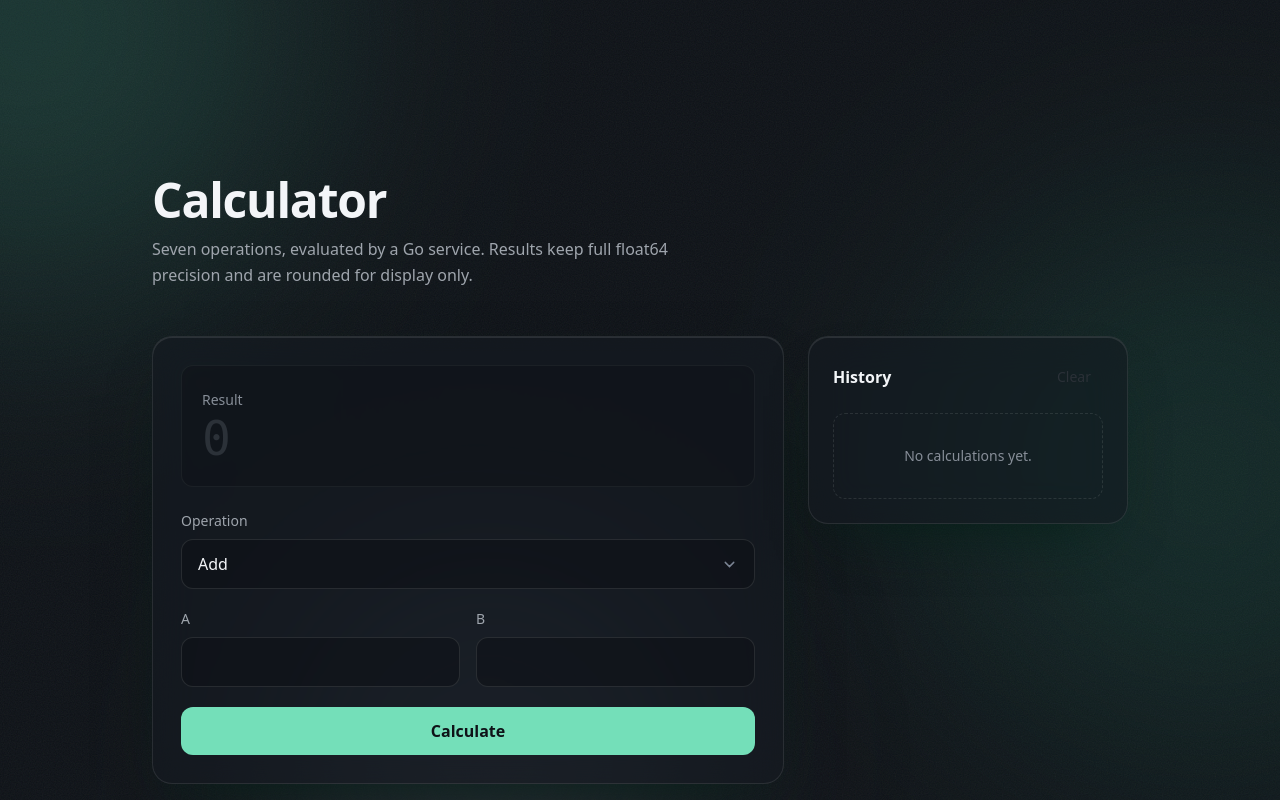
Scenario: App › adds calculations to history, newest first
Type "1" into the field labelled "A" at (320, 662), box [181,637,460,687]
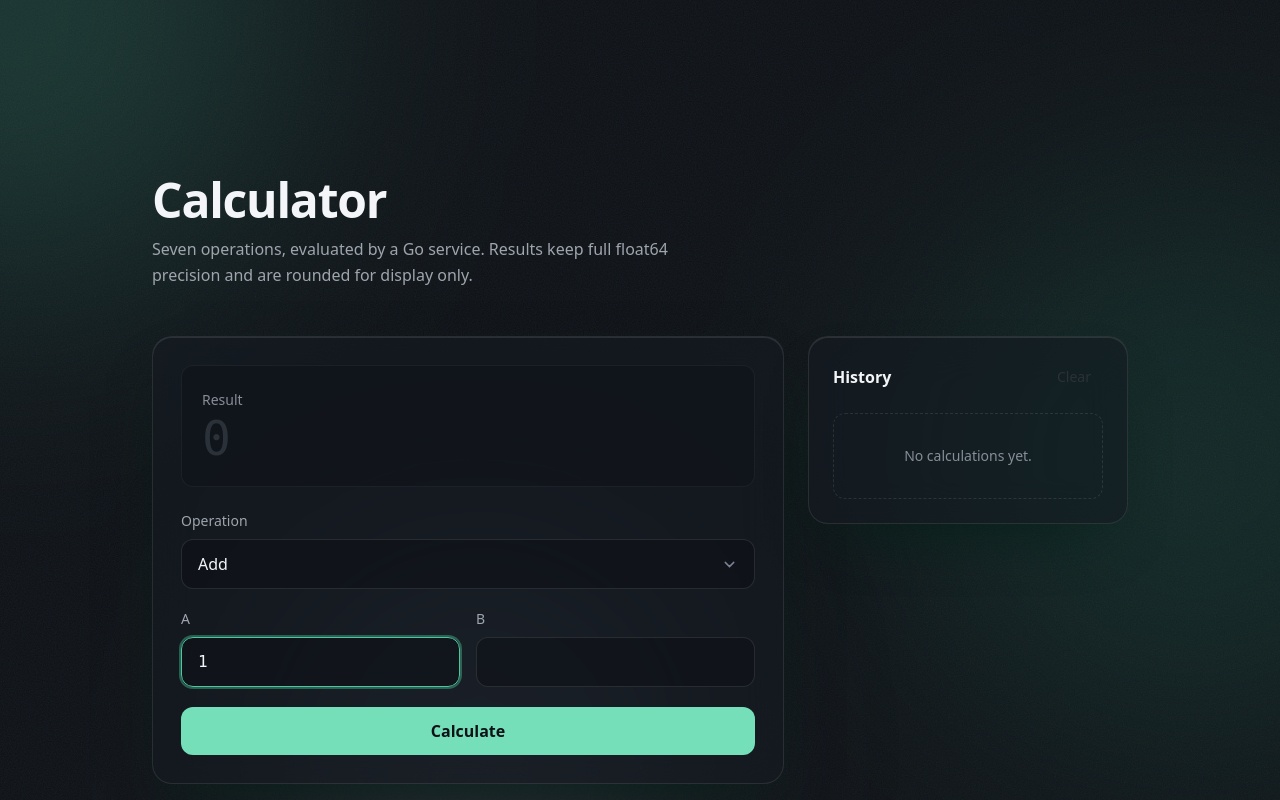
Type "2" into the field labelled "B" at (616, 662), box [476,637,755,687]
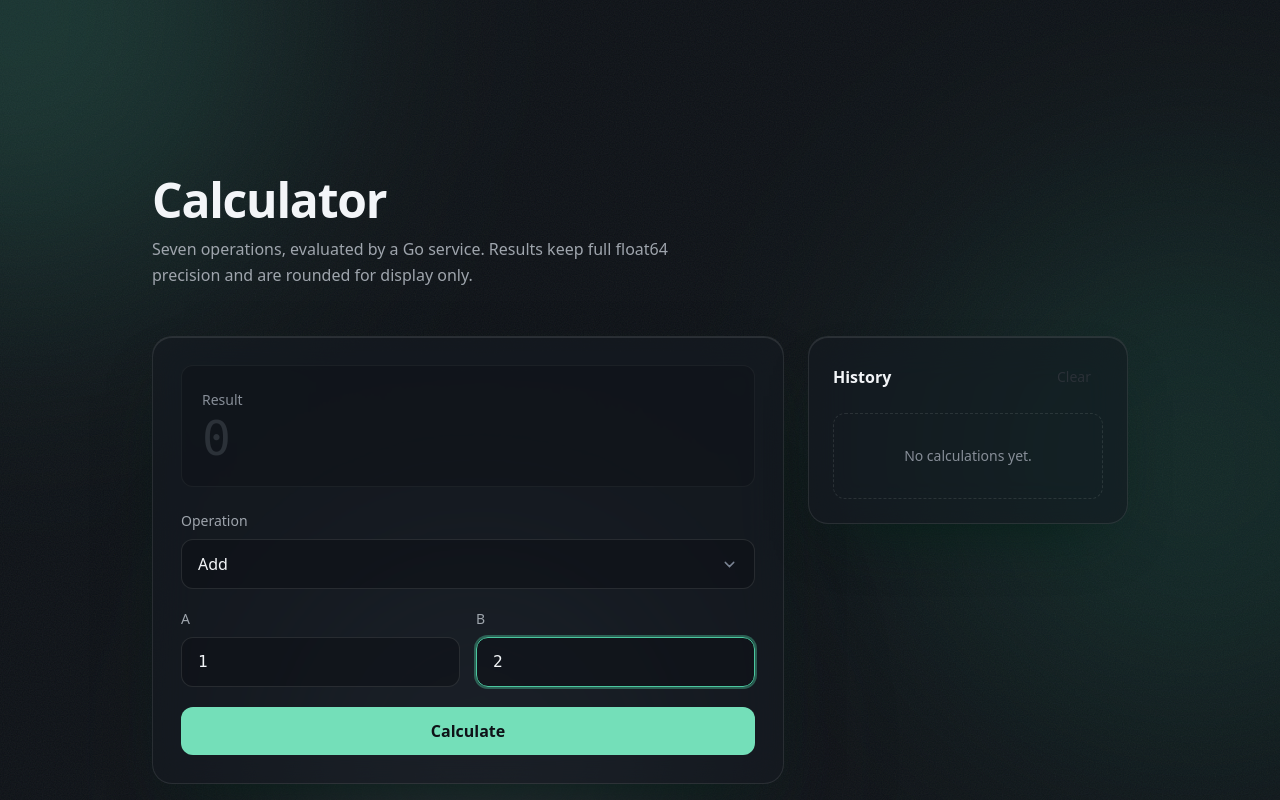
Click the button "Calculate" at (468, 731), box [181,707,755,755]
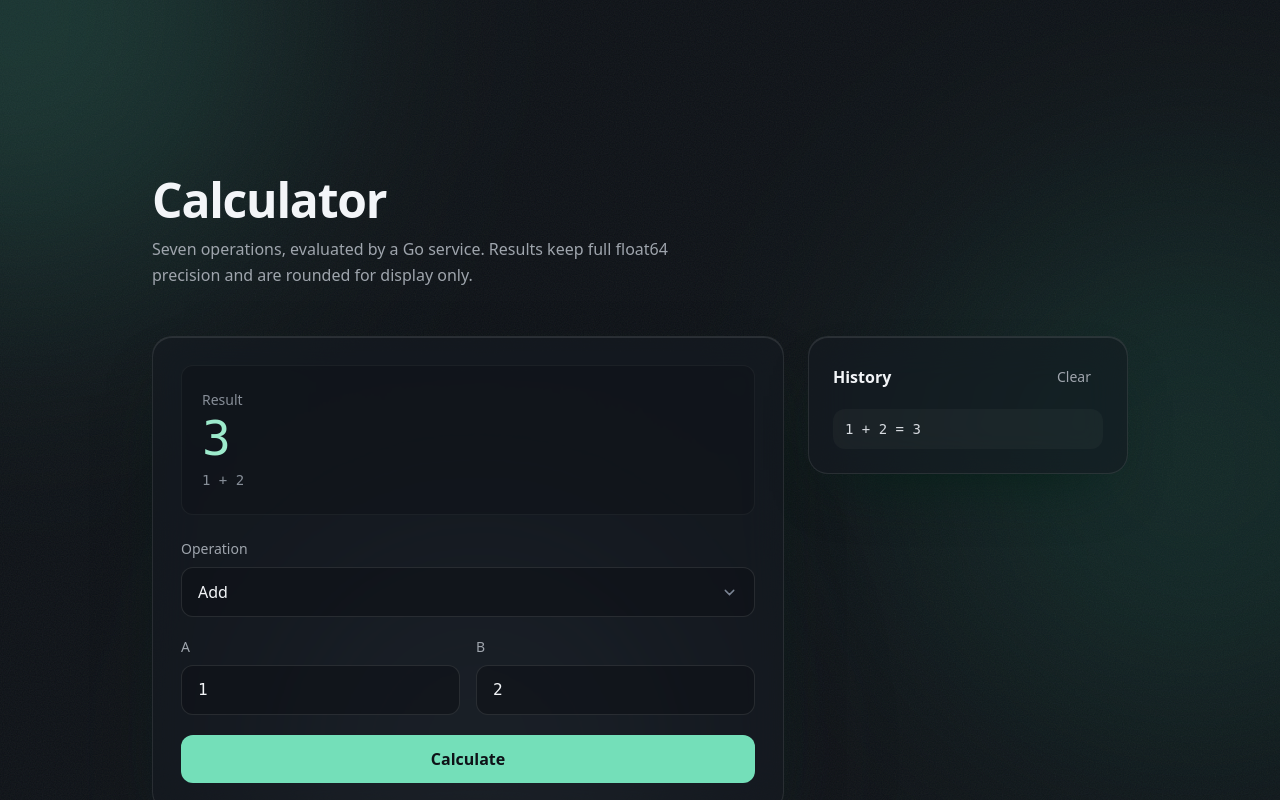
Expected: the text "3" is shown, [202,410,231,466]
Replace the text in the field labelled "A" with "4" at (320, 690), box [181,665,460,715]
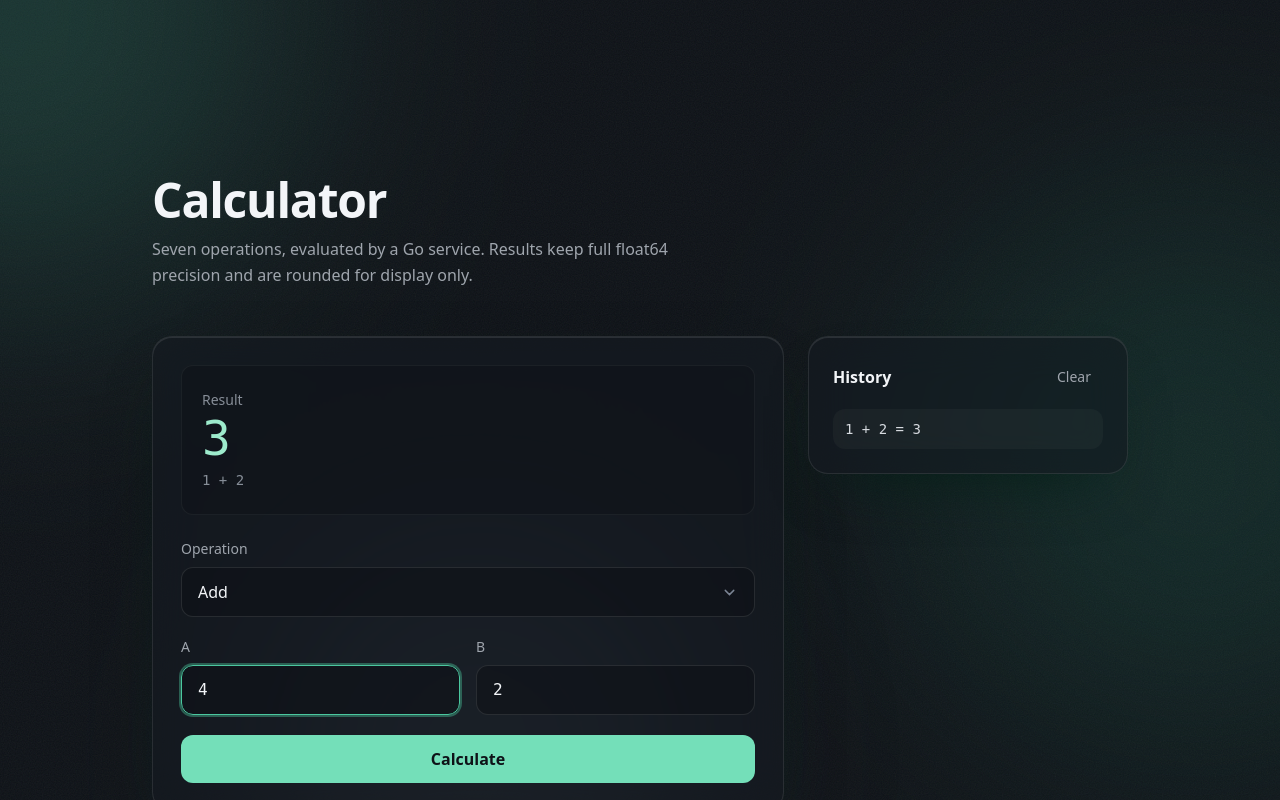
Replace the text in the field labelled "B" with "5" at (616, 690), box [476,665,755,715]
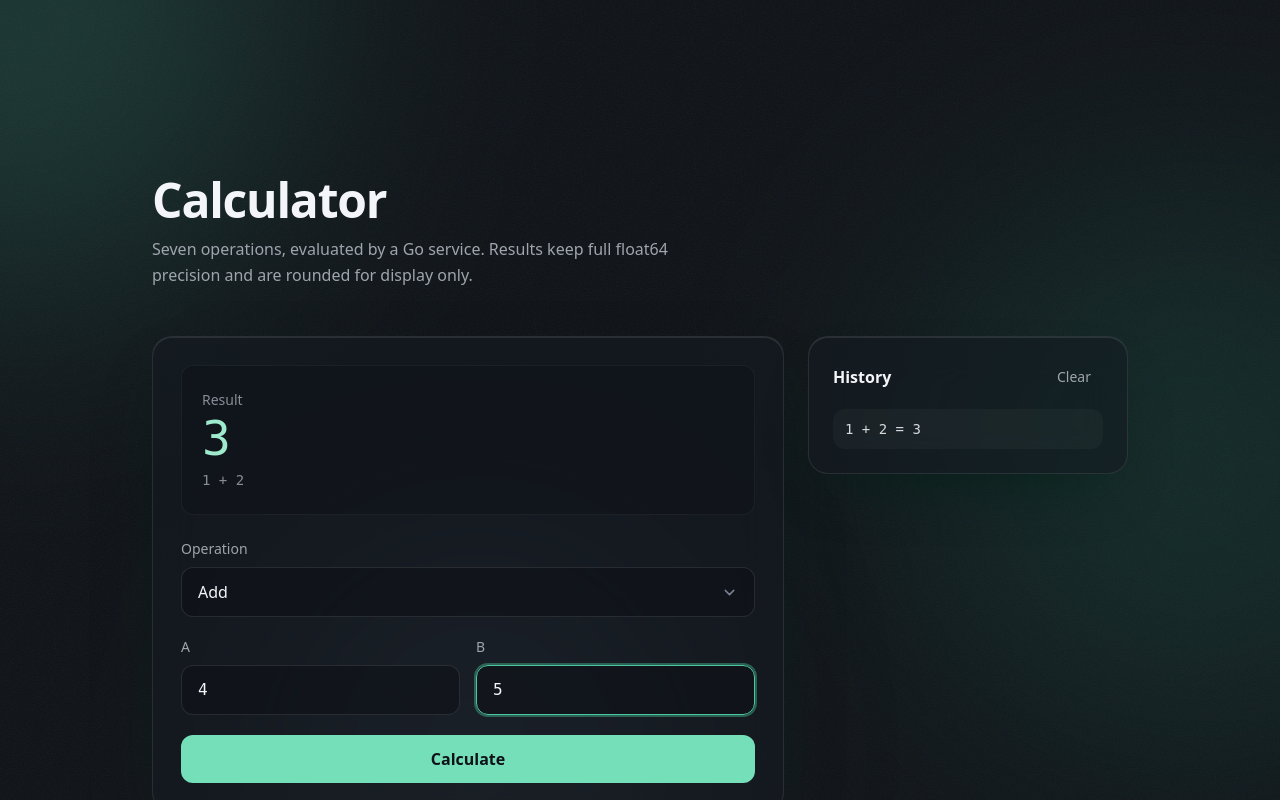
Click the button "Calculate" at (468, 759), box [181,735,755,783]
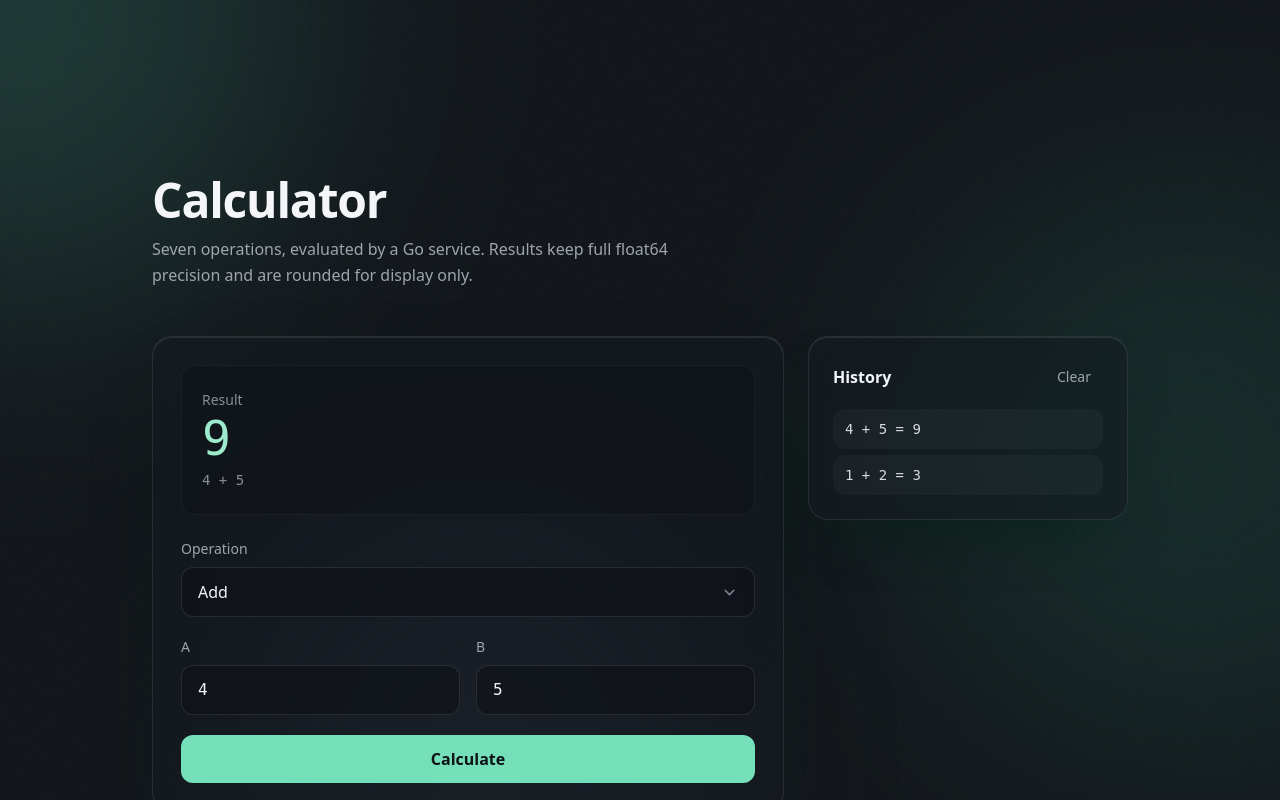
Expected: the text "9" is shown, [202,410,231,466]
Expected: the number of list items is 2, [833,409,1103,449]; [833,455,1103,495]
Expected: the list item "4 + 5 = 9" is shown, [833,409,1103,449]
